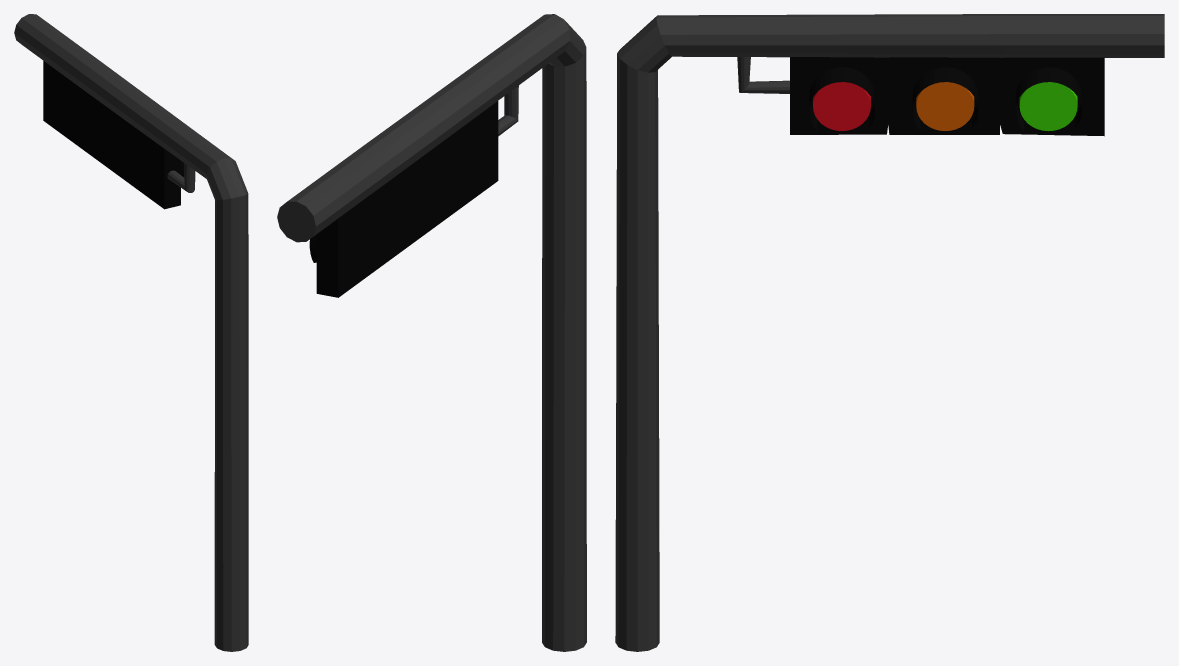
File: L_Traffic_Lights.fbx
3 views of the same model, side by side, from view 1: azimuth 30°, elevation 25°; view 2: azimuth 150°, elevation 25°; view 3: azimuth 270°, elevation 25° (orthographic). The views are drawn at different scales.
Parts seen in each view (by area): view 1: 평면, 큐브, 평면.001; view 2: 평면, 큐브, 평면.001; view 3: 평면, 큐브, 실린더.001, 실린더.002, 실린더, 평면.001.
Part boxes in pixels (bbox=[...]): 평면: bbox=[14, 14, 248, 651]; 큐브: bbox=[43, 60, 184, 209]; 평면.001: bbox=[167, 163, 195, 192]; 평면: bbox=[277, 14, 586, 651]; 큐브: bbox=[309, 101, 498, 297]; 평면.001: bbox=[498, 85, 518, 136]; 평면: bbox=[615, 14, 1164, 651]; 큐브: bbox=[790, 57, 1104, 136]; 실린더.001: bbox=[916, 82, 974, 131]; 실린더.002: bbox=[1019, 82, 1077, 131]; 실린더: bbox=[813, 82, 870, 130]; 평면.001: bbox=[737, 57, 789, 93].
Size of the model in its own units: 7.64 by 93.68 by 74.39.
